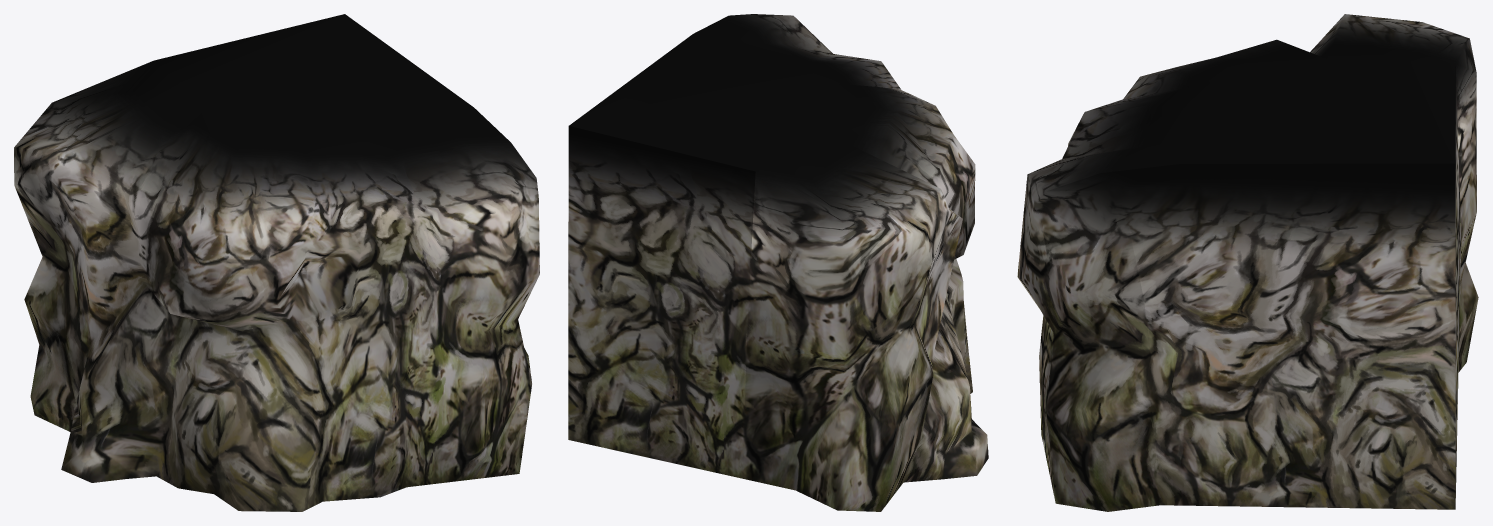
Rendered from STR_WallCaveD.FBX.
3 views of the same model, side by side, from view 1: azimuth 30°, elevation 25°; view 2: azimuth 150°, elevation 25°; view 3: azimuth 270°, elevation 25° (orthographic). The views are drawn at different scales.
Visible parts, largest first — view 1: STR_WallCaveD; view 2: STR_WallCaveD; view 3: STR_WallCaveD.
Boxes of the visible parts, x1,y1,x2,y2 form: STR_WallCaveD: (14, 14, 539, 511); STR_WallCaveD: (568, 14, 988, 511); STR_WallCaveD: (1017, 14, 1478, 511).
Size of the model in its own units: 480 by 401 by 485.
